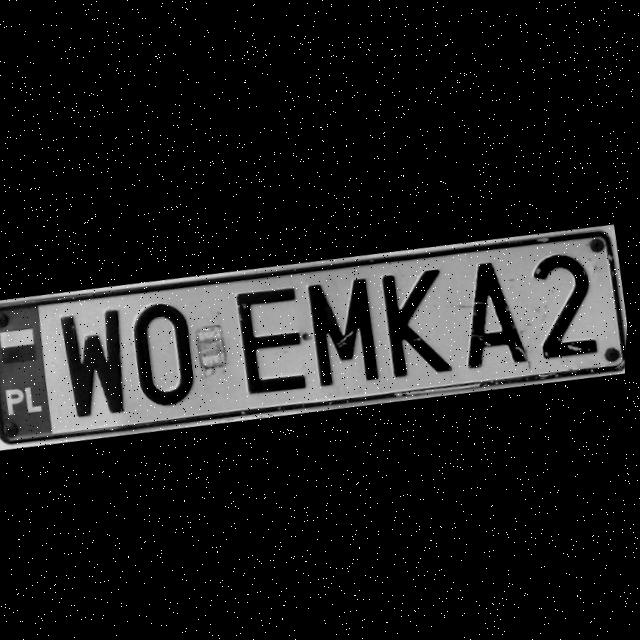license-plates: (0, 226, 627, 448)
